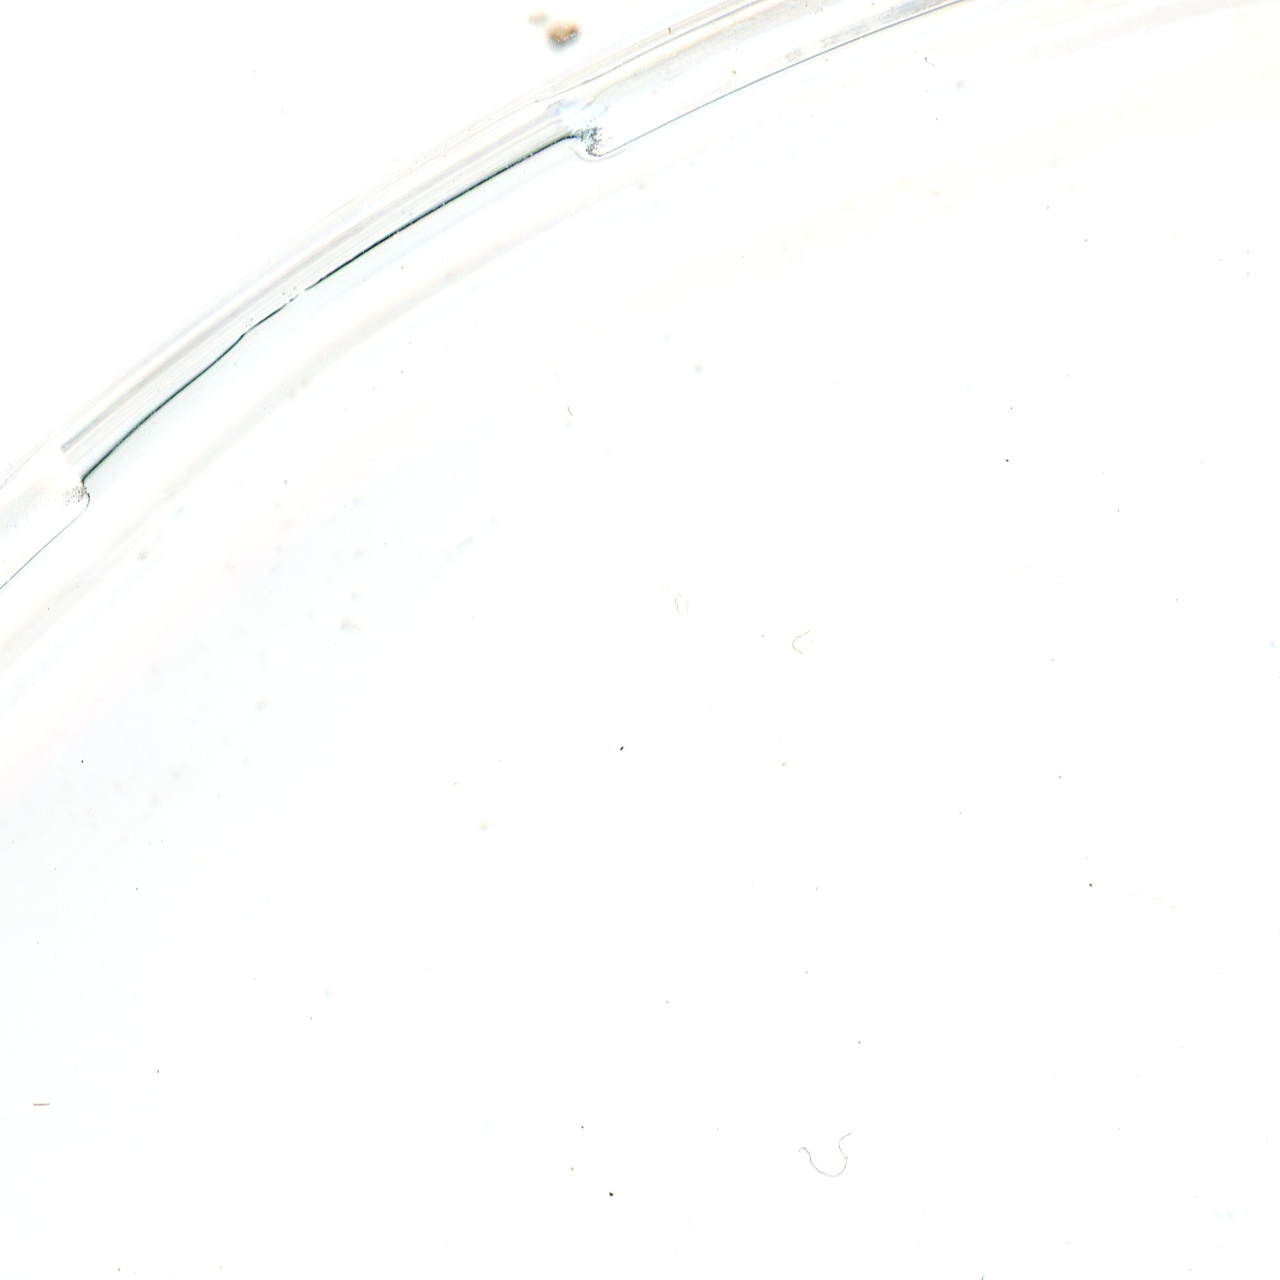arthropod: (958, 1253, 1063, 1280)
